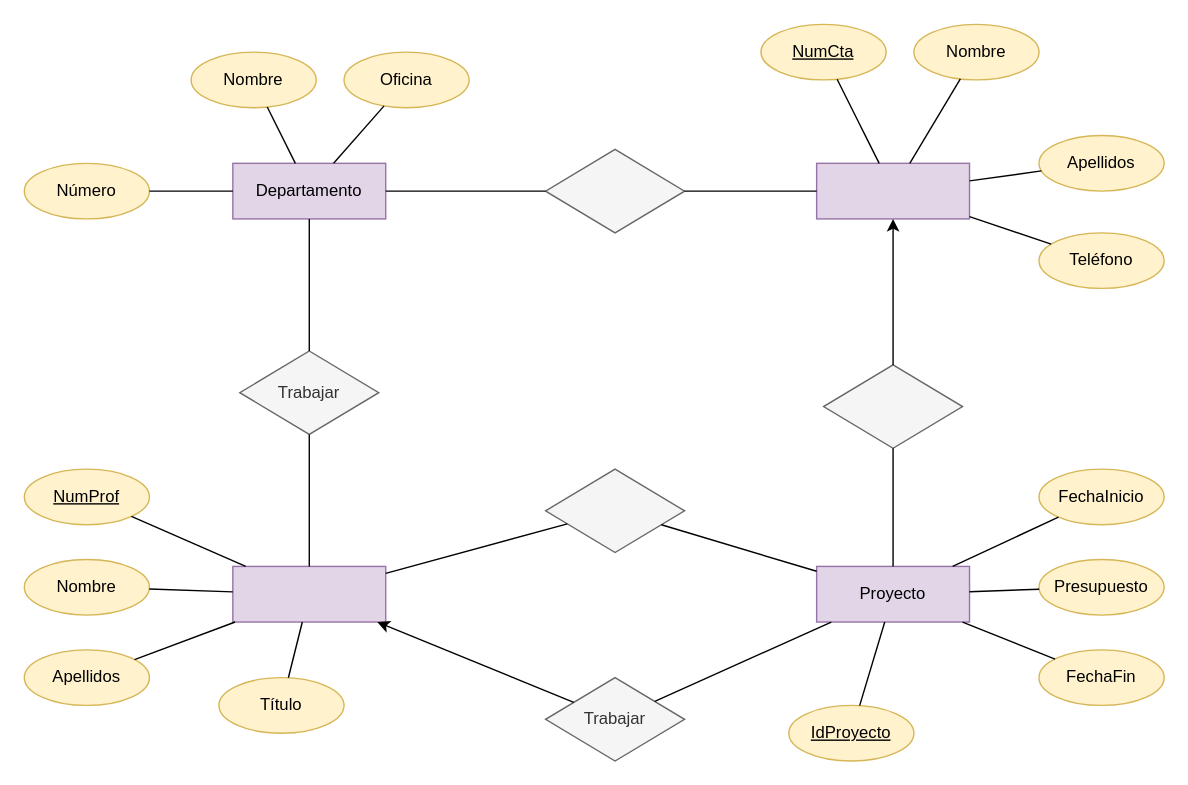
The diagram is 1188 pixels wide and 785 high, and some of its shapes have lost their labels. Here are the shapes that lost their labels. From the top down, the centre of each, then its label:
At point 614,190: "Estudiar".
At point 892,190: "Alumno".
At point 892,405: "Participar".
At point 614,510: "Administrar".
At point 308,593: "Profesor".
